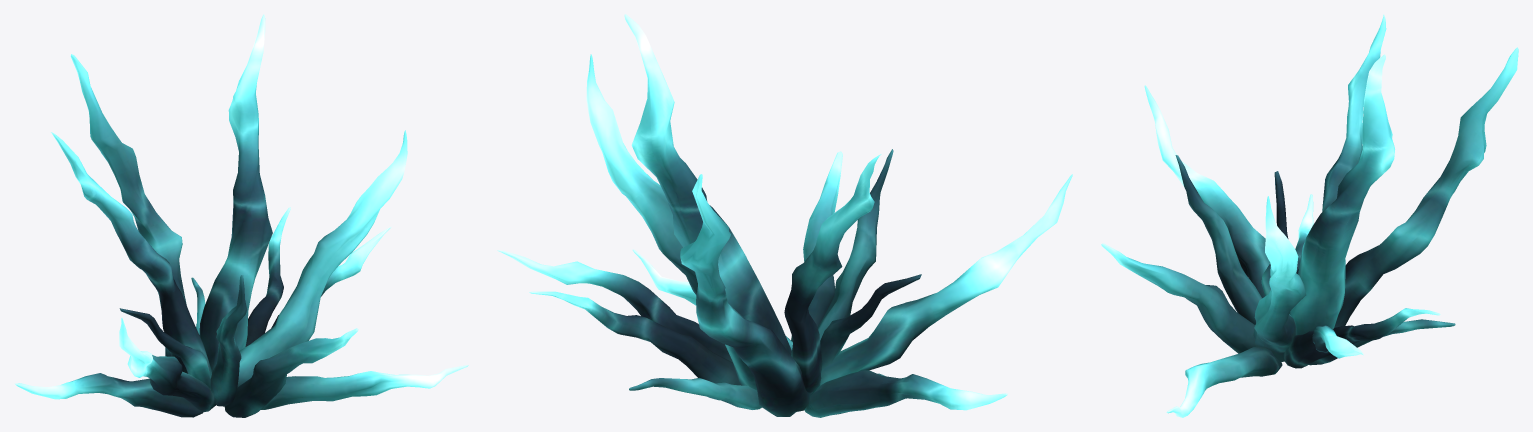
Rendered from caos_drs_chaosbush_01b_soma_v36.glb.
The picture shows the model from 3 angles, left to right: view 1: azimuth 30°, elevation 25°; view 2: azimuth 150°, elevation 25°; view 3: azimuth 270°, elevation 25°; orthographic projection. The views are drawn at different scales.
Parts seen in each view (by area): view 1: caos_drs_chaosbush_01b; view 2: caos_drs_chaosbush_01b; view 3: caos_drs_chaosbush_01b.
Boxes of the visible parts, bbox=[...] form: caos_drs_chaosbush_01b: bbox=[15, 14, 468, 417]; caos_drs_chaosbush_01b: bbox=[497, 14, 1072, 417]; caos_drs_chaosbush_01b: bbox=[1101, 14, 1518, 417].
Bounding box in the file's own units: 1.93 × 1.56 × 1.68.
Materials: 1 (1 with a texture image).
